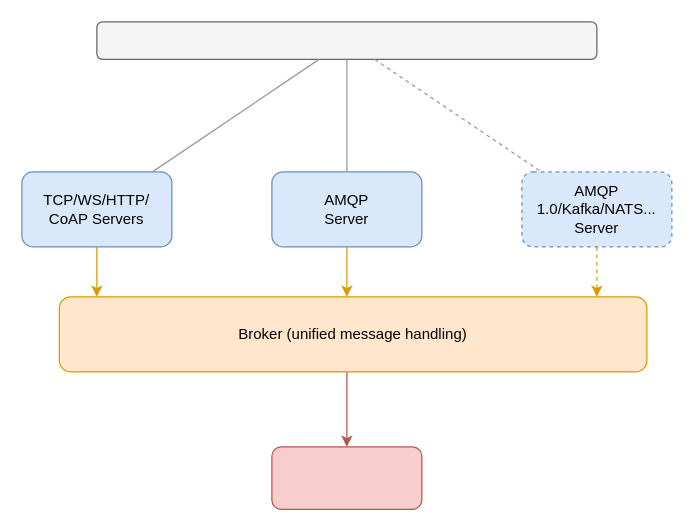
Some shapes in this 694 by 531 pixel diagram are drawn without their labels. The shapes that lost their labels are listed below. From the top down, each one's centre as x and y in pixels, then its label:
At pixel 346 40: "TCP/UDP + TLS/mTLS".
At pixel 346 477: "Storage".
